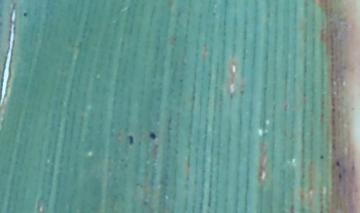tarspot: (147, 131, 158, 141), (126, 134, 135, 146), (238, 88, 246, 98), (21, 10, 29, 18), (337, 171, 343, 181), (334, 159, 341, 167), (177, 77, 184, 85), (318, 154, 325, 161), (210, 10, 216, 18)
